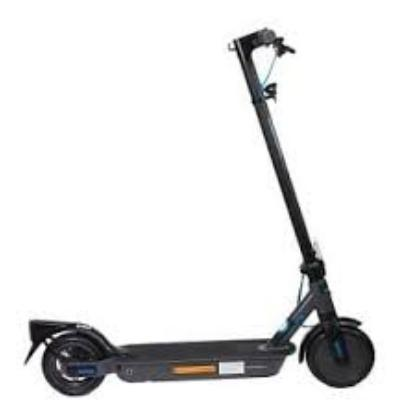bike: (16, 27, 377, 396)
